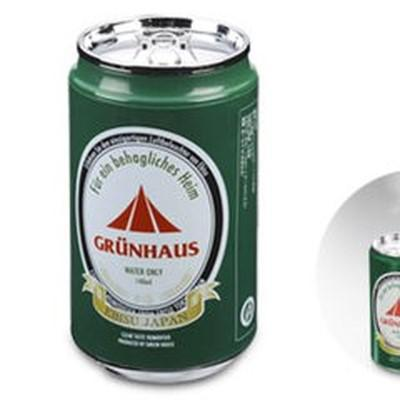beer: (67, 17, 263, 381)
